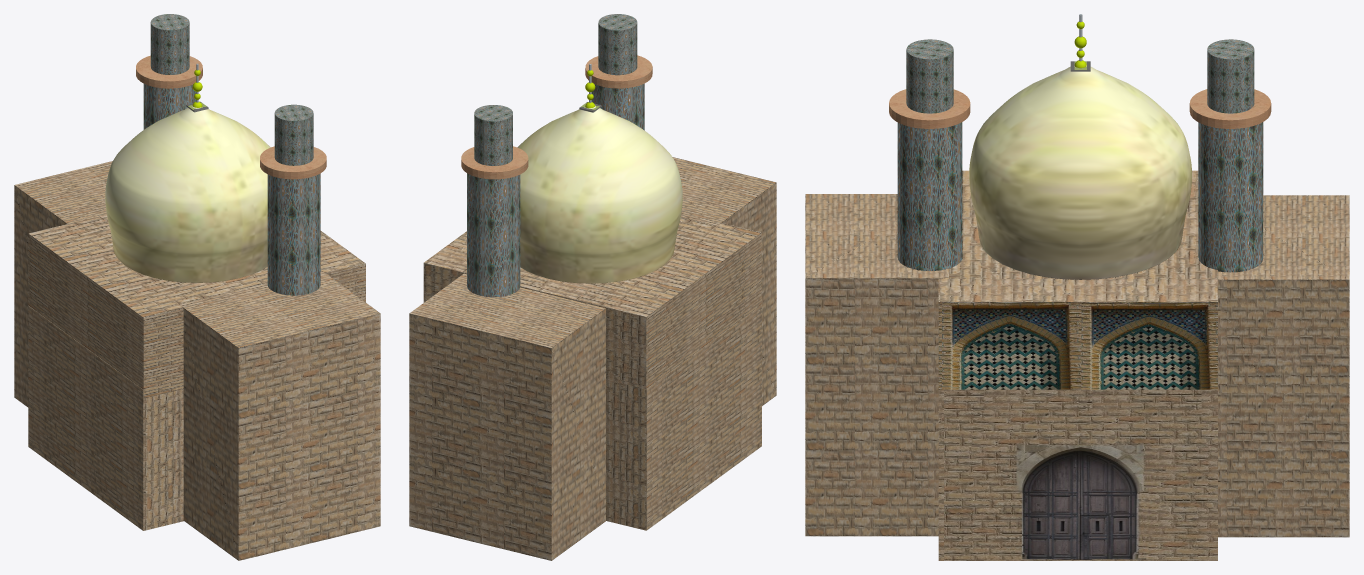
Rendered from Persian_CivilHouse.fbx.
The picture shows the model from 3 angles, left to right: view 1: azimuth 30°, elevation 25°; view 2: azimuth 150°, elevation 25°; view 3: azimuth 270°, elevation 25°; orthographic projection. The views are drawn at different scales.
Visible parts, largest first — view 1: Cube.001, cupula2.000, Cube.007, Cube.002, Cube.000, Cylinder, Cylinder.002, Cylinder.003, Cylinder.005, Cylinder.001, Cylinder.004; view 2: Cube.000, cupula2.000, Cube.007, Cube.002, Cube.001, Cylinder.005, Cylinder.002, Cylinder.003, Cylinder, Cylinder.004, Cylinder.001; view 3: Cube.007, Cube.001, Cube.000, cupula2.000, Cube.002, Cylinder.005, Cylinder, Cylinder.002, Cylinder.003, Cylinder.004, Cylinder.001.
Part boxes in pixels (x1,y1,x2,y2): Cube.001: (179,270,380,560); cupula2.000: (105,63,270,282); Cube.007: (28,306,183,530); Cube.002: (28,214,365,398); Cube.000: (14,161,112,407); Cylinder: (267,173,320,295); Cylinder.002: (274,104,313,165); Cylinder.003: (150,14,189,74); Cylinder.005: (143,84,196,129); Cylinder.001: (260,146,326,179); Cylinder.004: (136,55,202,88); Cube.000: (409,273,605,560); cupula2.000: (517,64,682,283); Cube.007: (606,305,761,530); Cube.002: (423,217,761,389); Cube.001: (672,157,776,405); Cylinder.005: (467,173,520,297); Cylinder.002: (598,14,637,75); Cylinder.003: (474,105,512,165); Cylinder: (591,83,644,130); Cylinder.004: (461,146,528,179); Cylinder.001: (585,55,652,88); Cube.007: (938,389,1217,560); Cube.001: (805,194,948,536); Cube.000: (1218,195,1349,537); cupula2.000: (969,14,1191,279); Cube.002: (938,170,1217,389); Cylinder.005: (1198,122,1263,272); Cylinder: (897,122,962,270); Cylinder.002: (906,39,953,113); Cylinder.003: (1207,39,1254,113); Cylinder.004: (1189,89,1271,128); Cylinder.001: (889,89,970,128).
Size of the model in its own units: 435 by 740 by 758.
